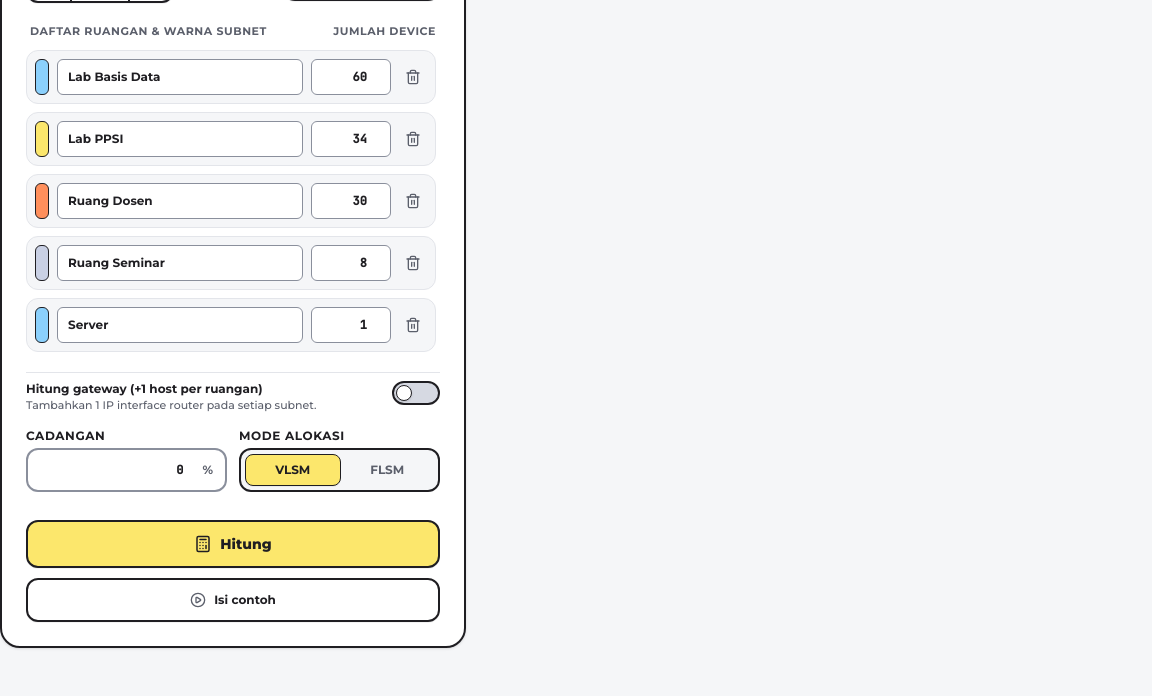
Test: Halaman Rencana Ruangan (/rencana) › menampilkan hasil hitung, banner peringatan gateway, dan tab perbandingan gateway
(page scrolled)
Klik Hitung
Click the button "Hitung": {"x": 233, "y": 544} [26,520,440,568]
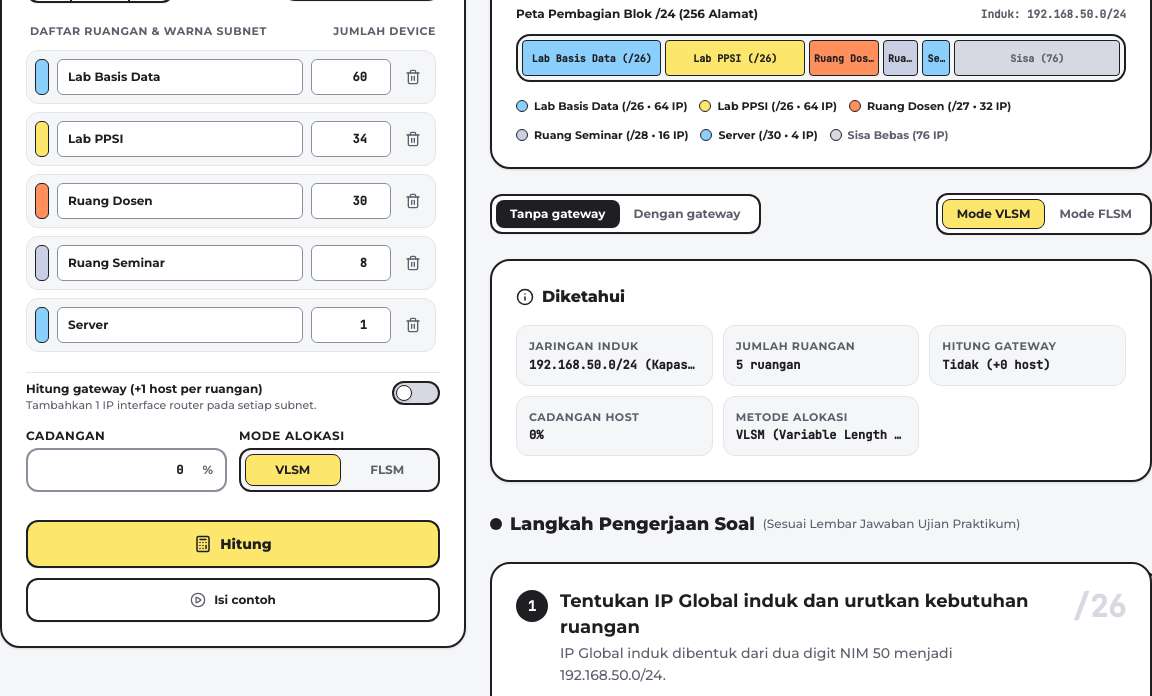
Check: the button "Tanpa gateway" is shown, box [496,200,620,228]
Check: the button "Dengan gateway" is shown
Klik tab "Dengan gateway"
Click the button "Dengan gateway": {"x": 687, "y": 214} [620,200,754,228]
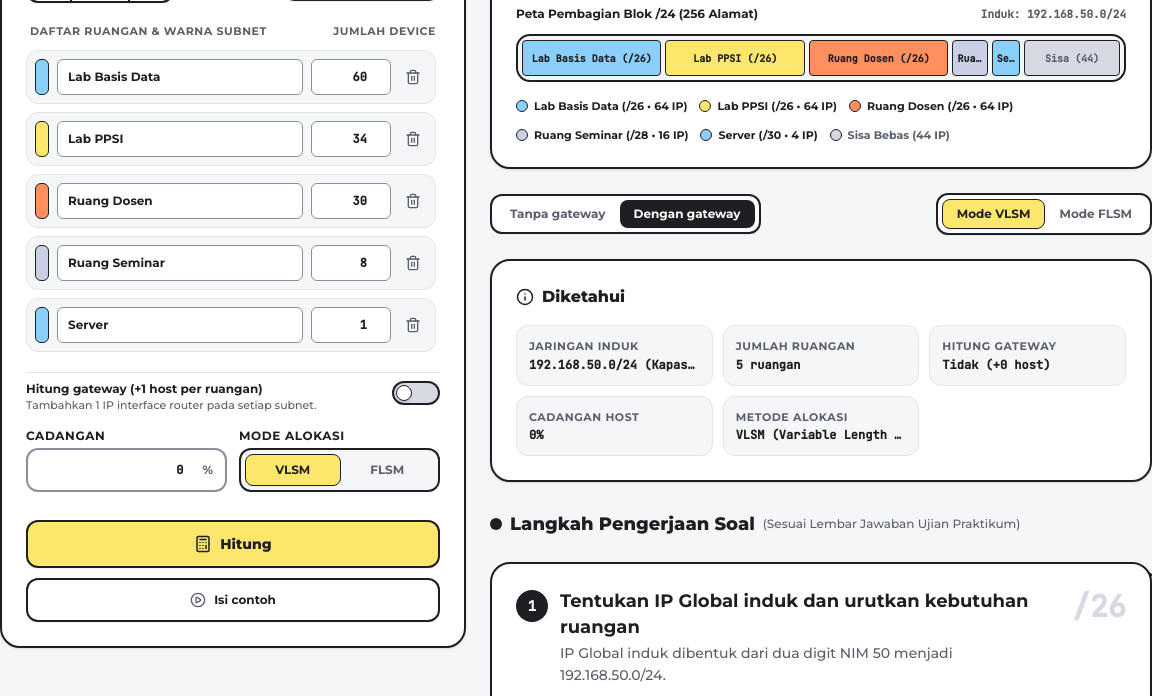
Check: the button "Mode VLSM" is shown, box [942,199,1045,229]
Check: the button "Mode FLSM" is shown
Klik tab Mode FLSM
Click the button "Mode FLSM": {"x": 1096, "y": 214} [1045,199,1146,229]
(page scrolled)
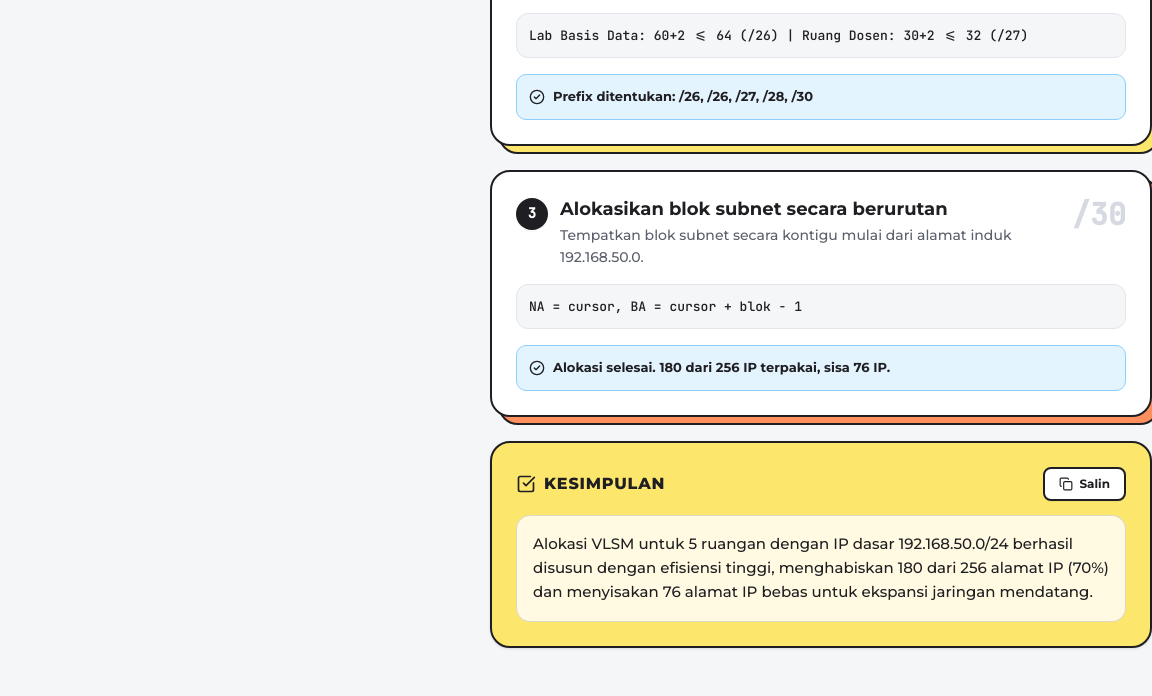
Check: the text "Alokasi VLSM untuk 5 ruangan" is shown, box [533,534,1109,601]
